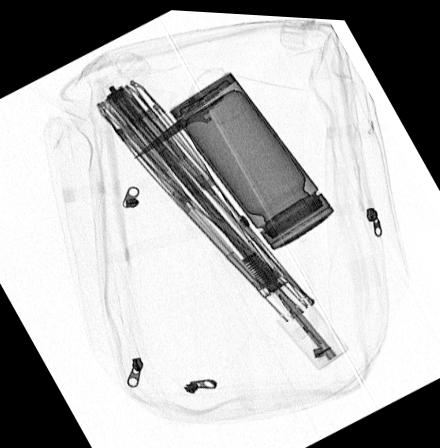Scissors: (133, 59, 251, 156)
